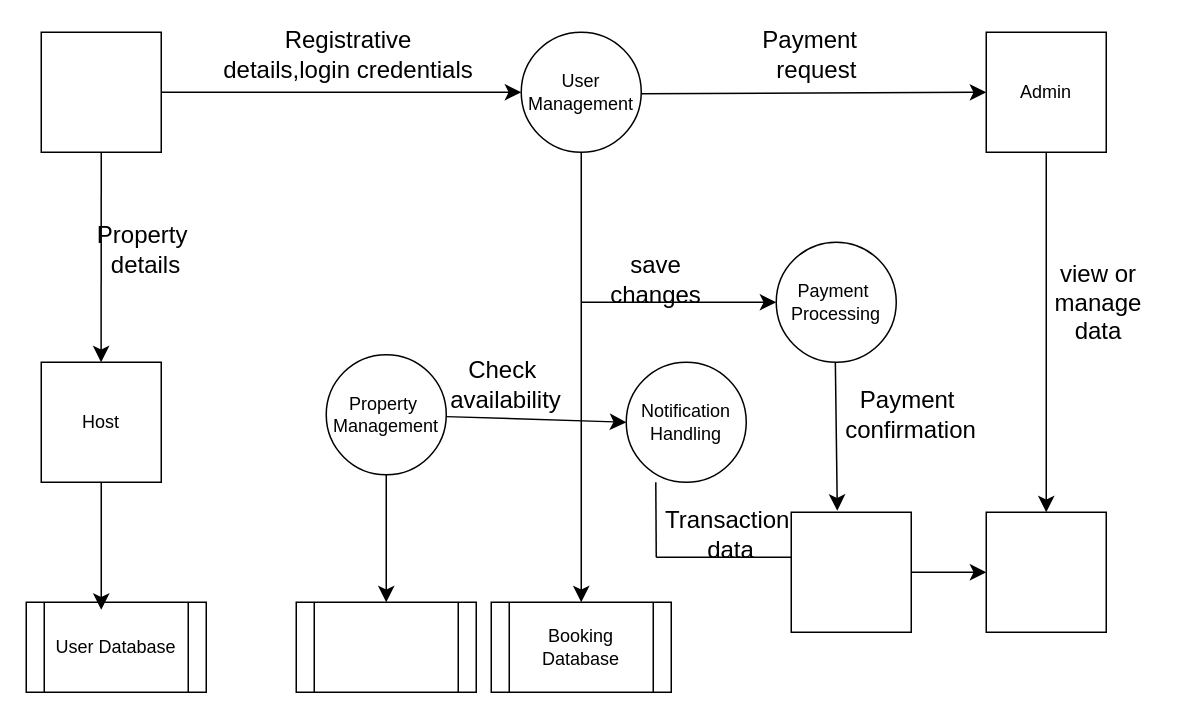
The diagram is 1178 pixels wide and 719 high, and some of its shapes have lost their labels. The shapes that lost their labels are listed below. From the top down, each one's centre as x and y in pixels, then its label:
At pixel 100 91: "Guest".
At pixel 850 571: "Payment Gateway".
At pixel 1045 571: "System".
At pixel 385 646: "Property Database".
